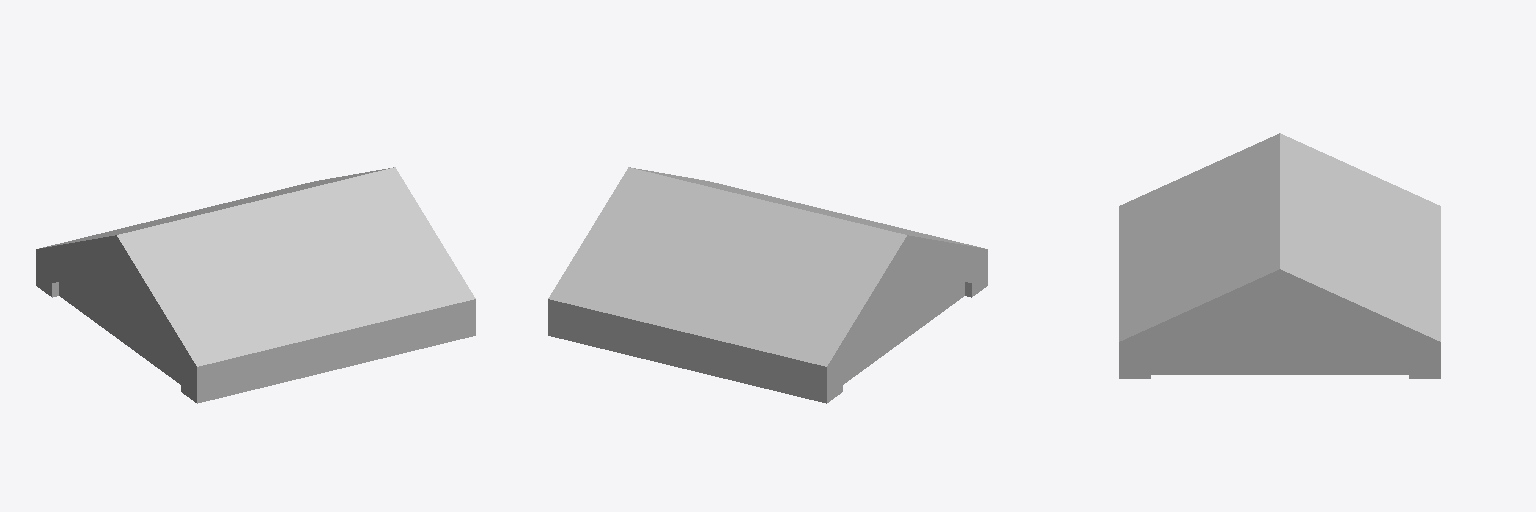
File: roof-gable-top.obj
3 views of the same model, side by side, from view 1: azimuth 30°, elevation 25°; view 2: azimuth 150°, elevation 25°; view 3: azimuth 270°, elevation 25° (orthographic).
Parts seen in each view (by area): view 1: roof-gable-top; view 2: roof-gable-top; view 3: roof-gable-top.
Part boxes in pixels (left/top/right/bottom): roof-gable-top: left=36, top=167, right=475, bottom=403; roof-gable-top: left=548, top=167, right=987, bottom=403; roof-gable-top: left=1119, top=133, right=1440, bottom=378.
Bounding box in the file's own units: 1 × 0.3759 × 1.